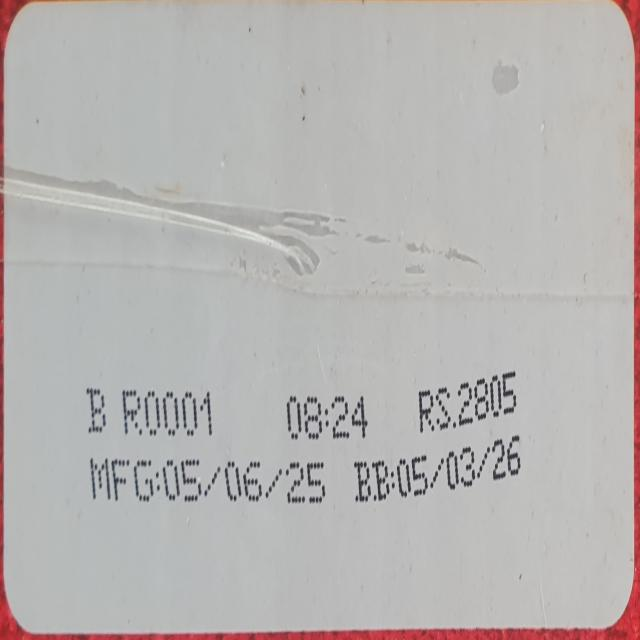BB: (81, 366, 227, 448), (351, 453, 528, 512)
MFG: (88, 457, 327, 518)
RS: (406, 379, 525, 435)
TimeStamp: (276, 388, 371, 444)
